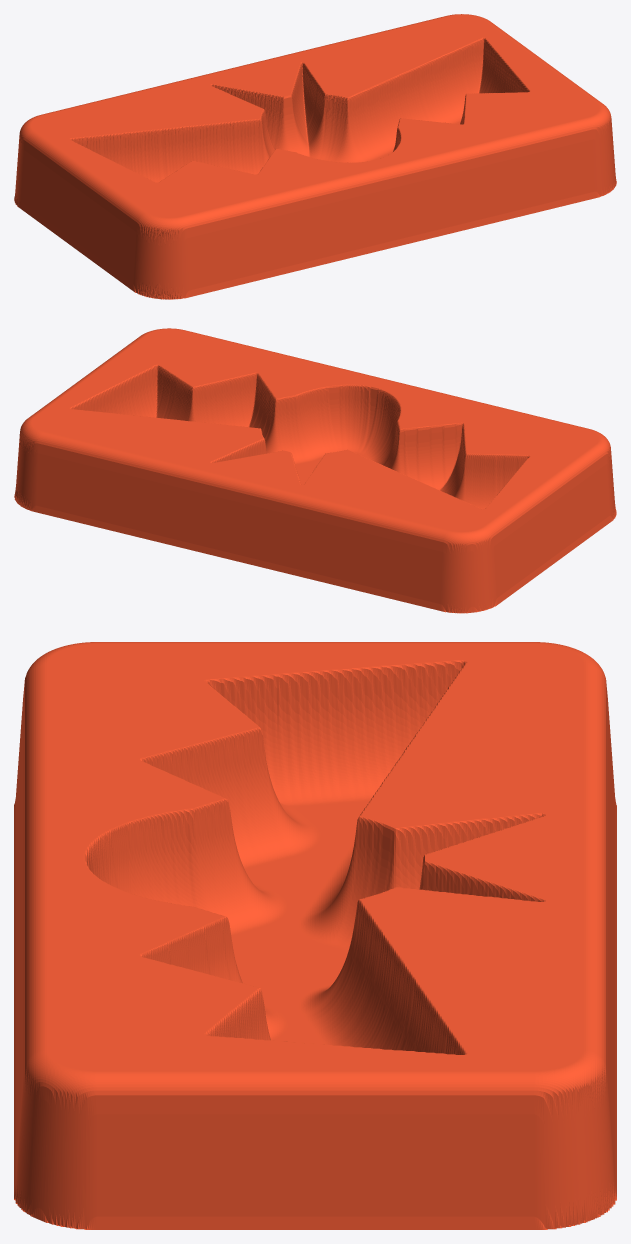
File: mold.glb
3 views of the same model, one above another, from view 1: azimuth 30°, elevation 25°; view 2: azimuth 150°, elevation 25°; view 3: azimuth 270°, elevation 25° (orthographic). The views are drawn at different scales.
Visible parts, largest first — view 1: geometry_0; view 2: geometry_0; view 3: geometry_0.
Boxes of the visible parts, x1,y1,x2,y2 form: geometry_0: [14, 14, 616, 299]; geometry_0: [14, 328, 616, 613]; geometry_0: [14, 642, 616, 1229].
Bounding box in the file's own units: 0.1178 × 0.0175 × 0.066.
